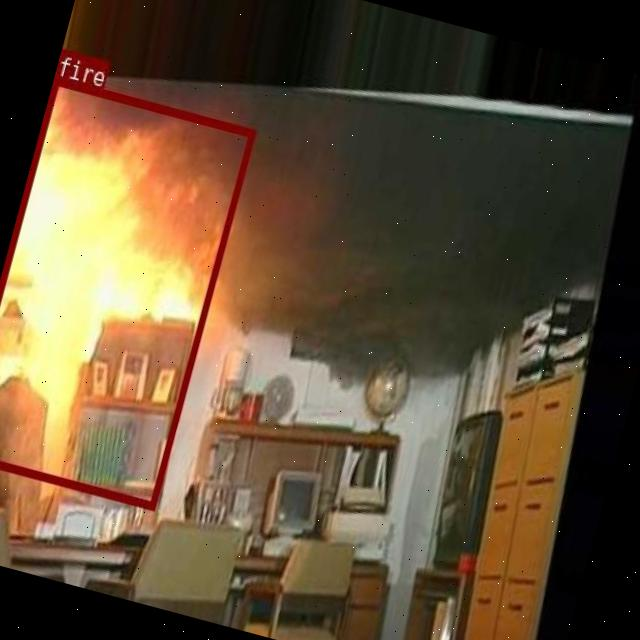fire: (0, 75, 254, 508)
